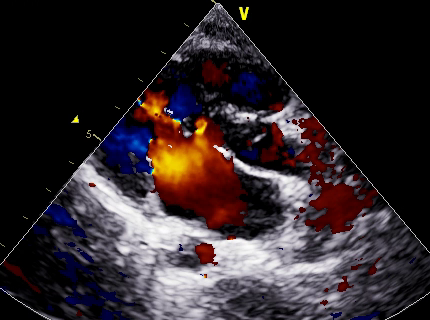MR: (125, 113, 186, 169)
